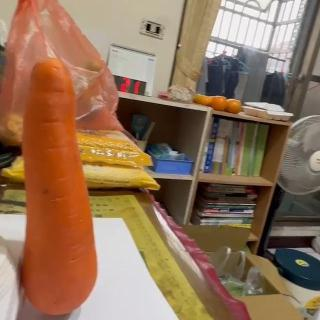carrot: (20, 56, 98, 316)
